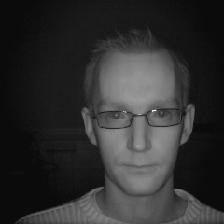normal: (80, 32, 194, 201)
